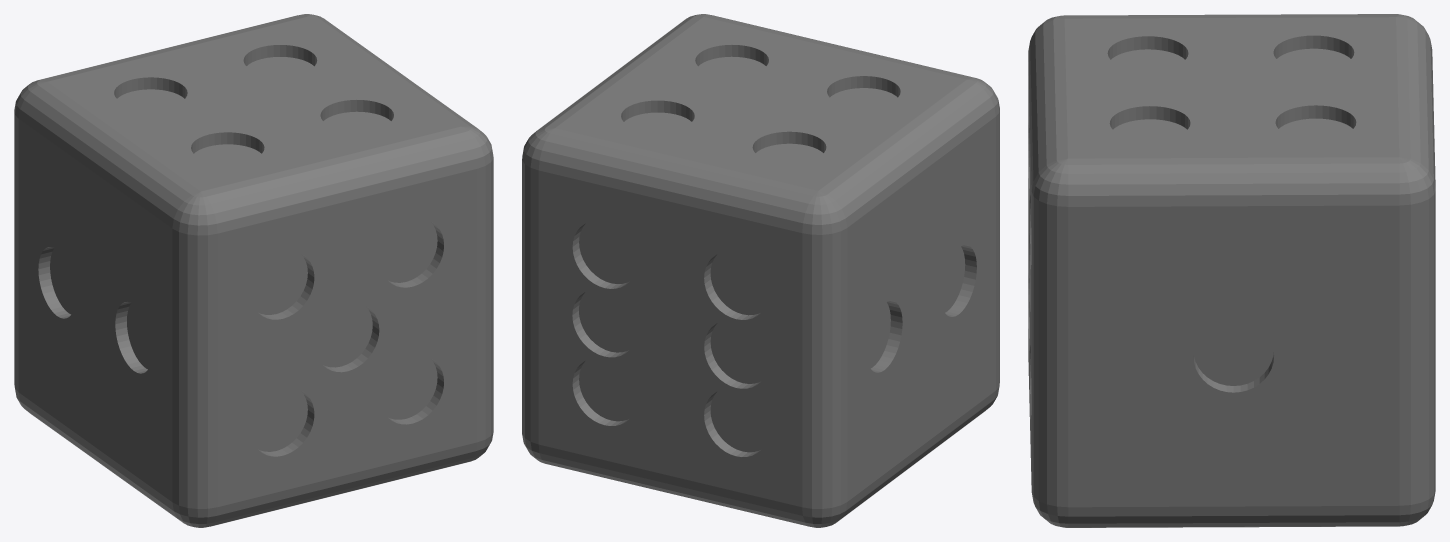
The picture shows the model from 3 angles, left to right: view 1: azimuth 30°, elevation 25°; view 2: azimuth 150°, elevation 25°; view 3: azimuth 270°, elevation 25°; orthographic projection. The views are drawn at different scales.
Parts seen in each view (by area): view 1: mesh_id26; view 2: mesh_id26; view 3: mesh_id26.
Boxes of the visible parts, x1=… form: mesh_id26: x1=14, y1=14, x2=493, y2=527; mesh_id26: x1=522, y1=14, x2=999, y2=527; mesh_id26: x1=1028, y1=14, x2=1435, y2=527.
Size of the model in its own units: 0.3868 by 0.3836 by 0.3868.
1 material, 1 textured.
